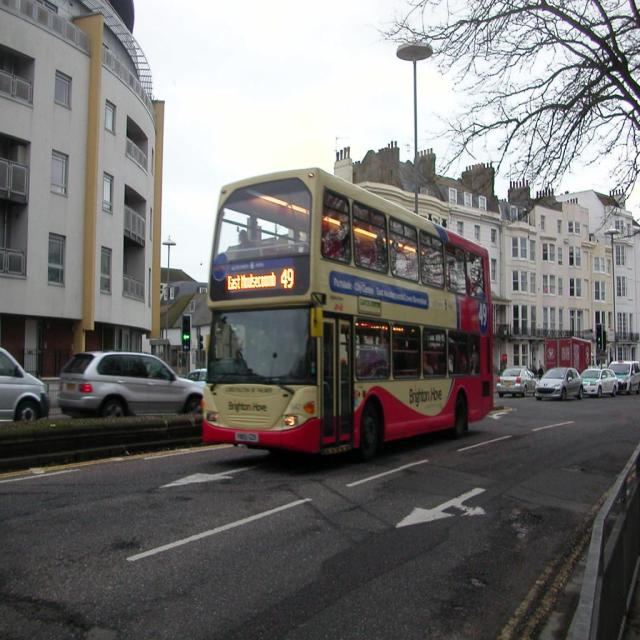car: (51, 348, 210, 435), (532, 364, 581, 400), (494, 364, 537, 393), (578, 368, 618, 398), (608, 356, 639, 390)
